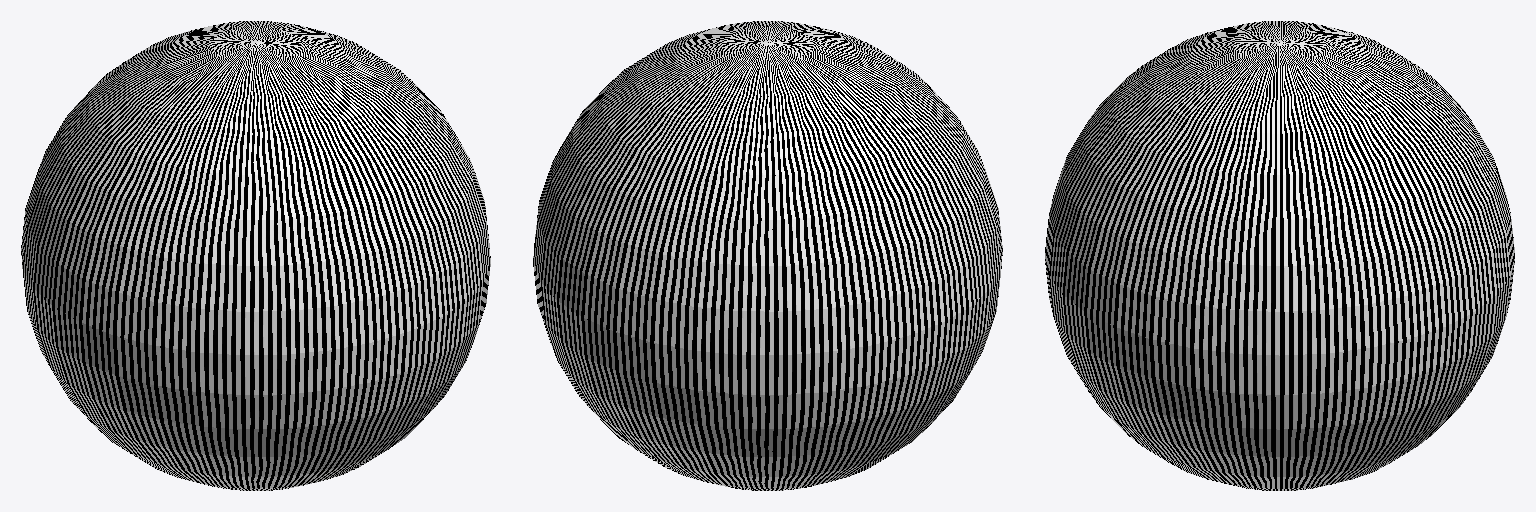
3 views of the same model, side by side, from view 1: azimuth 30°, elevation 25°; view 2: azimuth 150°, elevation 25°; view 3: azimuth 270°, elevation 25° (orthographic).
Visible parts, largest first — view 1: Sphere; view 2: Sphere; view 3: Sphere.
Part boxes in pixels (left/top/right/bottom): Sphere: left=21, top=21, right=490, bottom=490; Sphere: left=533, top=21, right=1002, bottom=490; Sphere: left=1045, top=21, right=1514, bottom=490.
Size of the model in its own units: 1.04 by 1.04 by 1.04.
Materials: 1 (1 with a texture image).